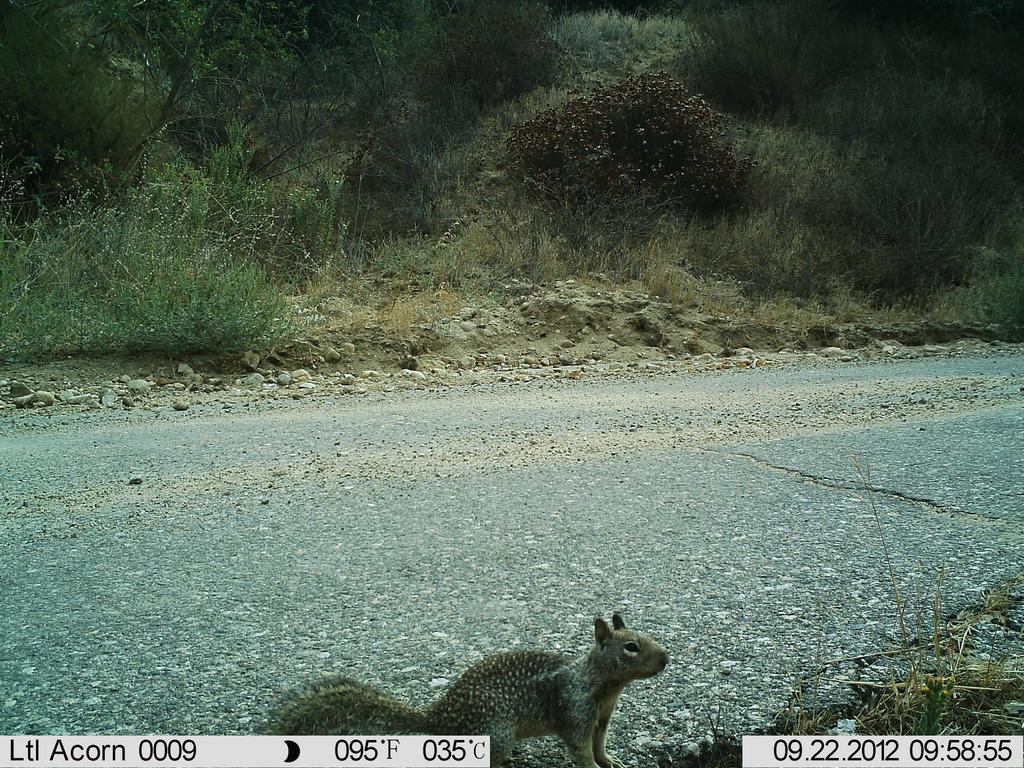squirrel: (253, 607, 693, 766)
